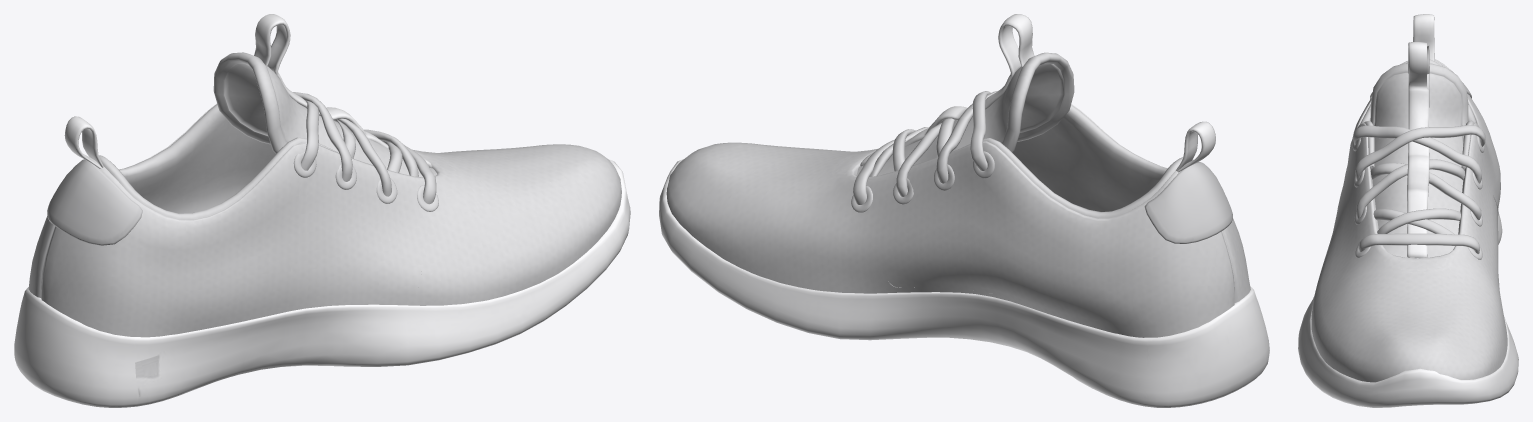
File: sepatu.glb
3 views of the same model, side by side, from view 1: azimuth 30°, elevation 25°; view 2: azimuth 150°, elevation 25°; view 3: azimuth 270°, elevation 25° (orthographic). The views are drawn at different scales.
Parts seen in each view (by area): view 1: Shoe; view 2: Shoe; view 3: Shoe.
Boxes of the visible parts, bbox=[...] form: Shoe: bbox=[14, 14, 630, 407]; Shoe: bbox=[659, 14, 1269, 407]; Shoe: bbox=[1298, 14, 1518, 407].
Size of the model in its own units: 0.2979 by 0.1531 by 0.1158.
1 material, 1 textured.
